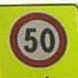limite 50: (8, 11, 67, 68)
